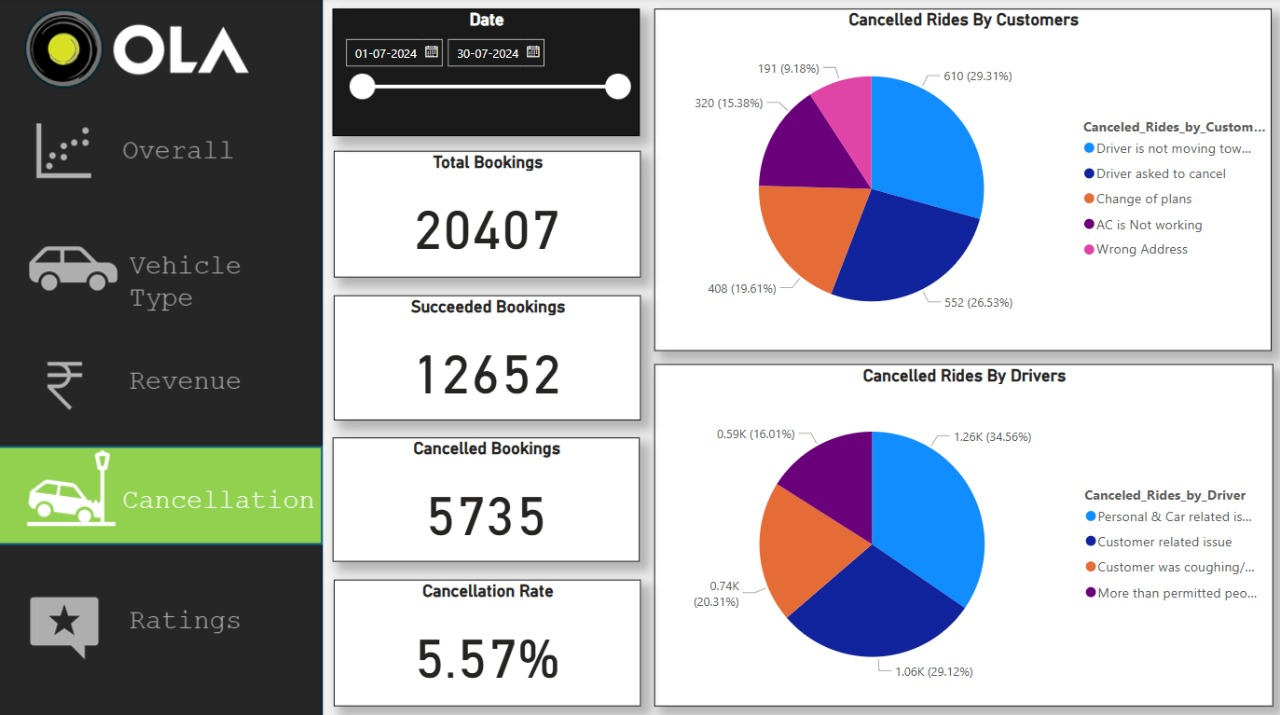

What the dashboard file says about the page in this screenshot:
{"tool":"powerbi","page":{"name":"Cancellation ","canvas":[1280,720],"ordinal":3},"visuals":[{"type":"actionButton","box":[0,228,324.5,90.5],"z":0},{"type":"actionButton","box":[0,340.2,324.5,88.1],"z":1000},{"type":"actionButton","box":[1.2,446.4,324.5,90.5],"z":2000},{"type":"actionButton","box":[0,580.3,324.5,94.1],"z":3000},{"type":"actionButton","box":[0,111,324.5,90.5],"z":4000},{"type":"pieChart","title":"Cancelled Rides By Customers ","fields":{"Category":["July.Canceled_Rides_by_Customer"],"Y":["CountNonNull(July.Canceled_Rides_by_Customer)"]},"box":[655,10,616.2,341.2],"z":5000},{"type":"pieChart","title":"Cancelled Rides By Drivers","fields":{"Category":["July.Canceled_Rides_by_Driver"],"Y":["CountNonNull(July.Canceled_Rides_by_Driver)"]},"box":[655,365,617.5,341.2],"z":6000},{"type":"card","title":"Total Bookings","fields":{"Values":["CountNonNull(July.Booking_ID)"]},"box":[335,152.5,306.2,126.2],"z":7000},{"type":"slicer","title":"Date","fields":{"Values":["July.Date"]},"box":[333.8,10,306.2,127.5],"z":8000},{"type":"card","title":"Succeeded Bookings","fields":{"Values":["CountNonNull(July.Booking_ID)"]},"box":[335,296.2,306.2,125],"z":9000},{"type":"card","title":"Cancelled Bookings","fields":{"Values":["CountNonNull(July.Booking_ID)"]},"box":[333.8,438.8,306.2,123.8],"z":10000},{"type":"card","title":"Cancellation Rate","fields":{"Values":["July.CancelledPercentage (%)"]},"box":[335,580,306.2,126.2],"z":11000}]}

Visuals, with their boxes in screenshot pixels (x1, y1, x2, y2), scaled from the page's 1280x720 canvas onto the 1280x715 screenshot:
actionButton: box(0, 226, 324, 316)
actionButton: box(0, 338, 324, 425)
actionButton: box(1, 443, 326, 533)
actionButton: box(0, 576, 324, 670)
actionButton: box(0, 110, 324, 200)
"Cancelled Rides By Customers " pieChart: box(655, 10, 1271, 349)
"Cancelled Rides By Drivers" pieChart: box(655, 362, 1272, 701)
"Total Bookings" card: box(335, 151, 641, 277)
"Date" slicer: box(334, 10, 640, 137)
"Succeeded Bookings" card: box(335, 294, 641, 418)
"Cancelled Bookings" card: box(334, 436, 640, 559)
"Cancellation Rate" card: box(335, 576, 641, 701)
